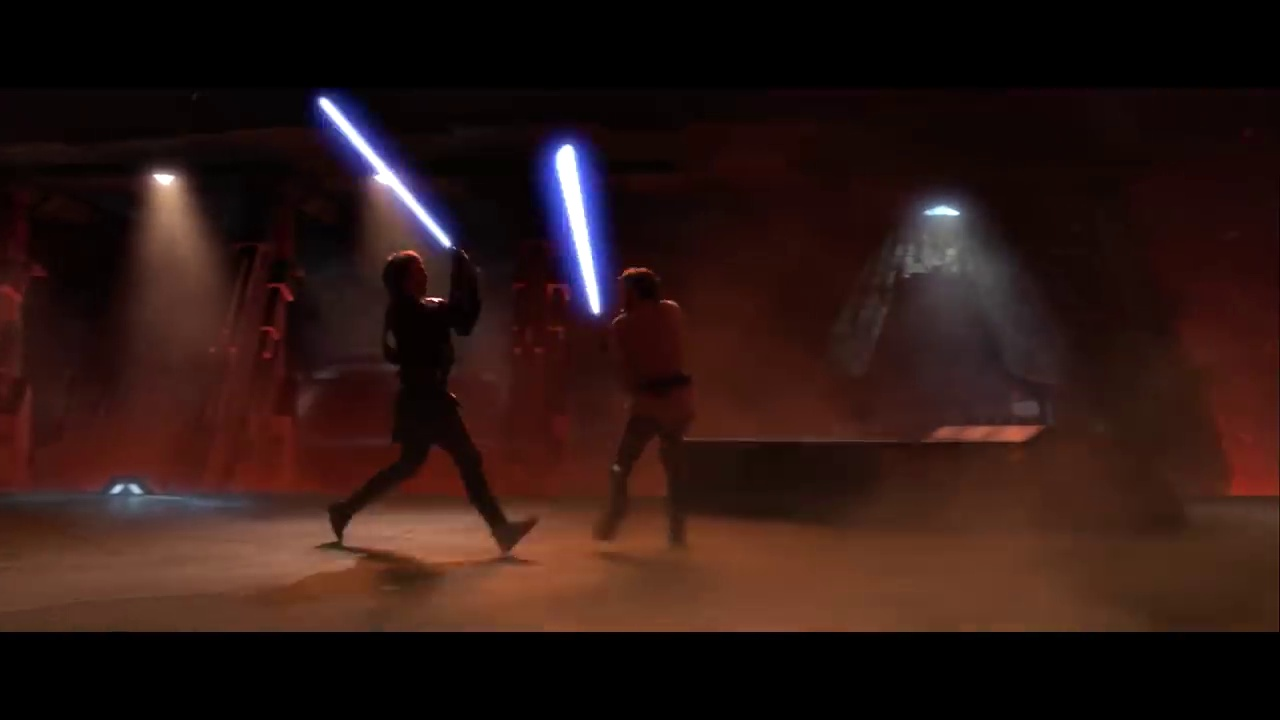lightsaber: (284, 93, 480, 267), (545, 134, 616, 329)
